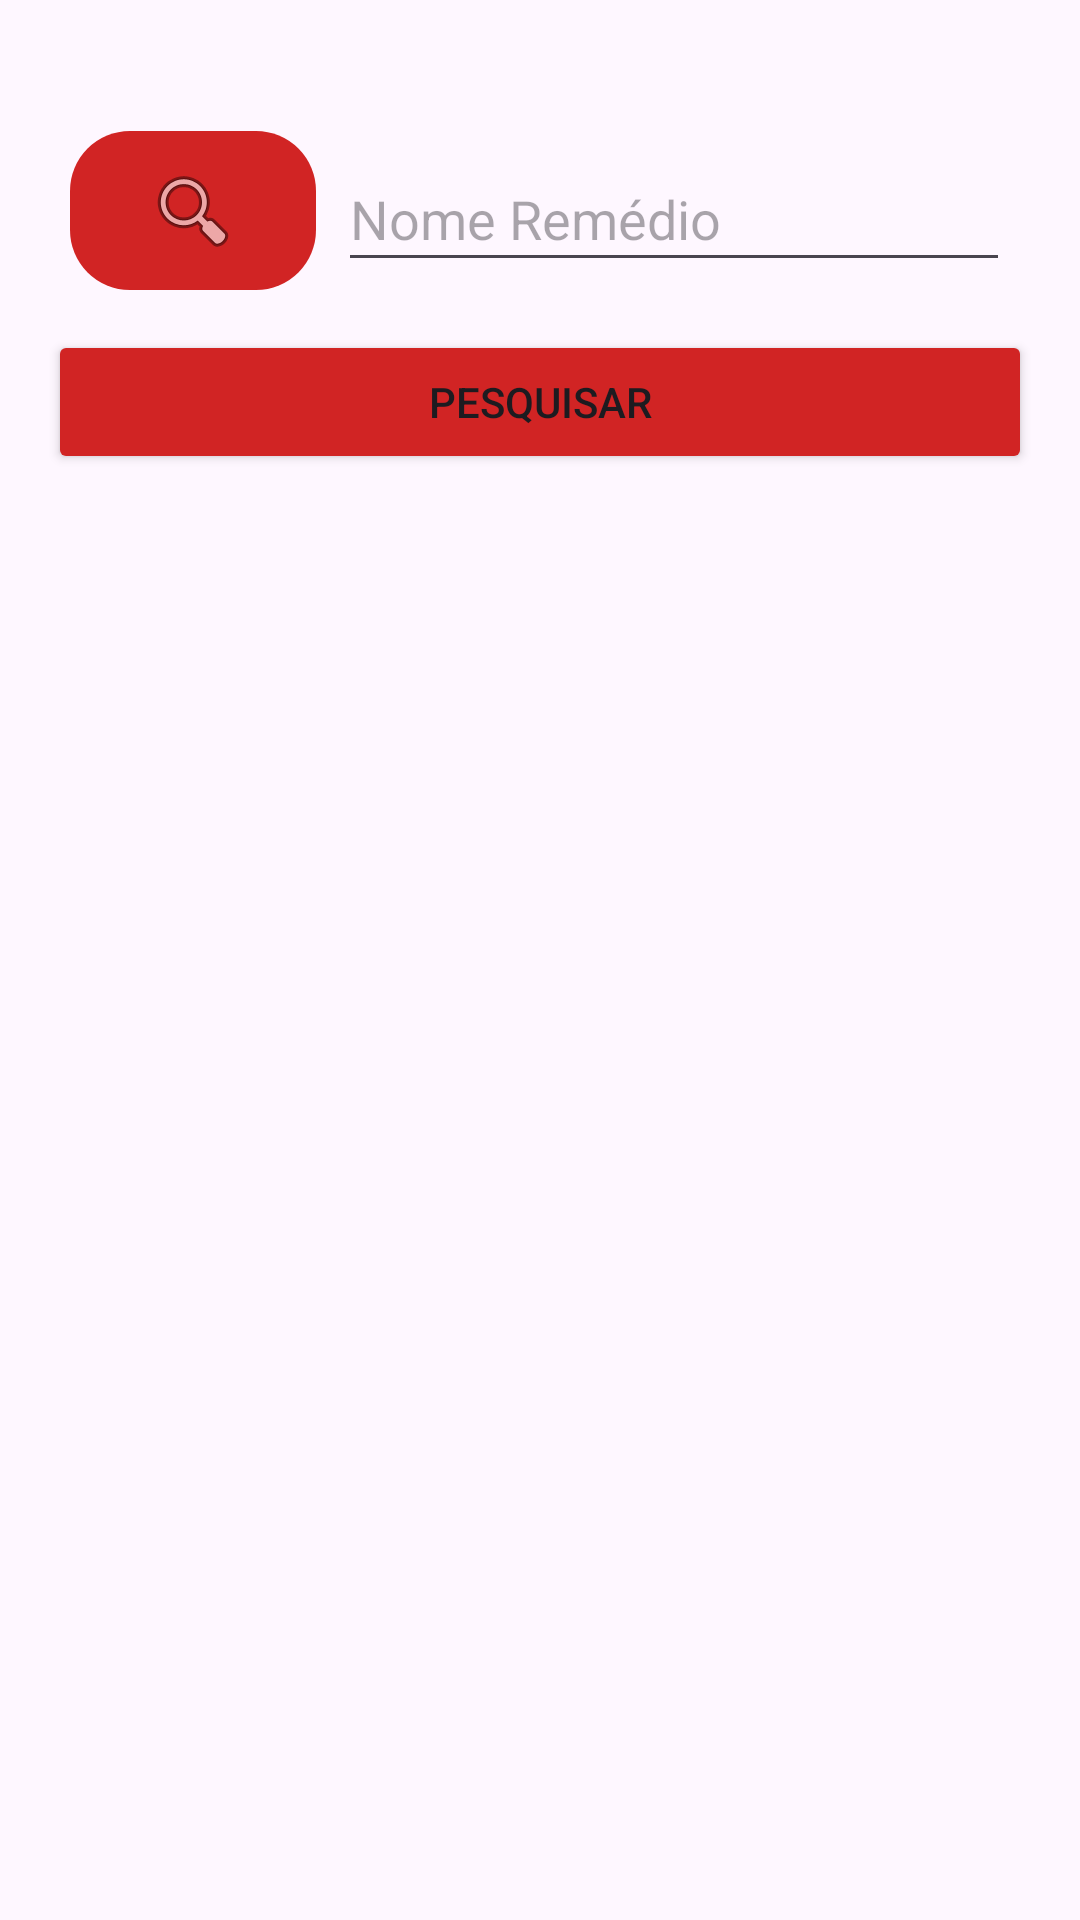

Named icons in this screenshot (1080*1920) and their bounding boxes, {"left": x1, "top": y1, "right": x2, "bottom": y2}:
search: {"left": 70, "top": 131, "right": 316, "bottom": 290}
